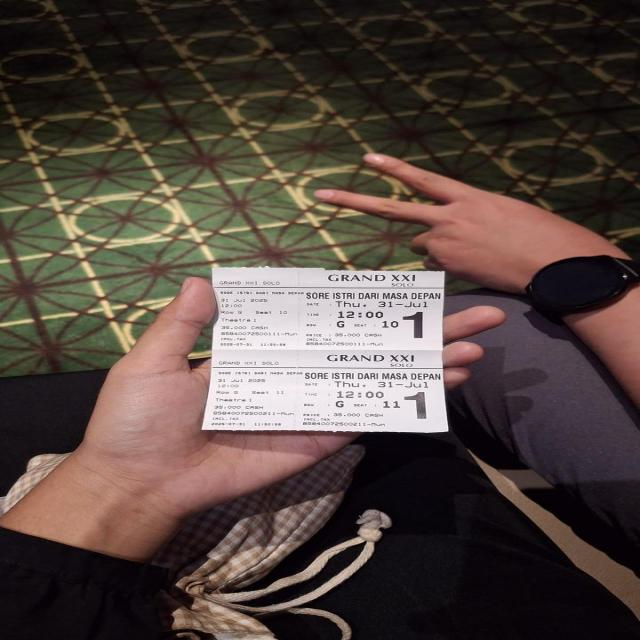date: (219, 298, 278, 308)
store: (323, 272, 425, 288), (216, 280, 288, 286)
total: (302, 332, 387, 339)
